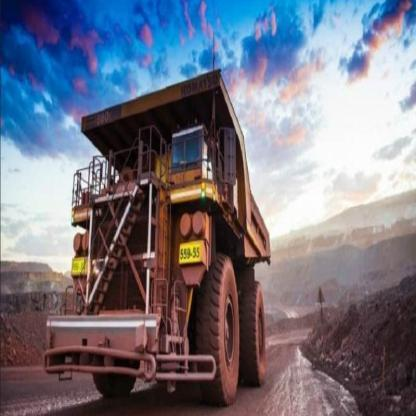dump_truck: (50, 57, 270, 390)
